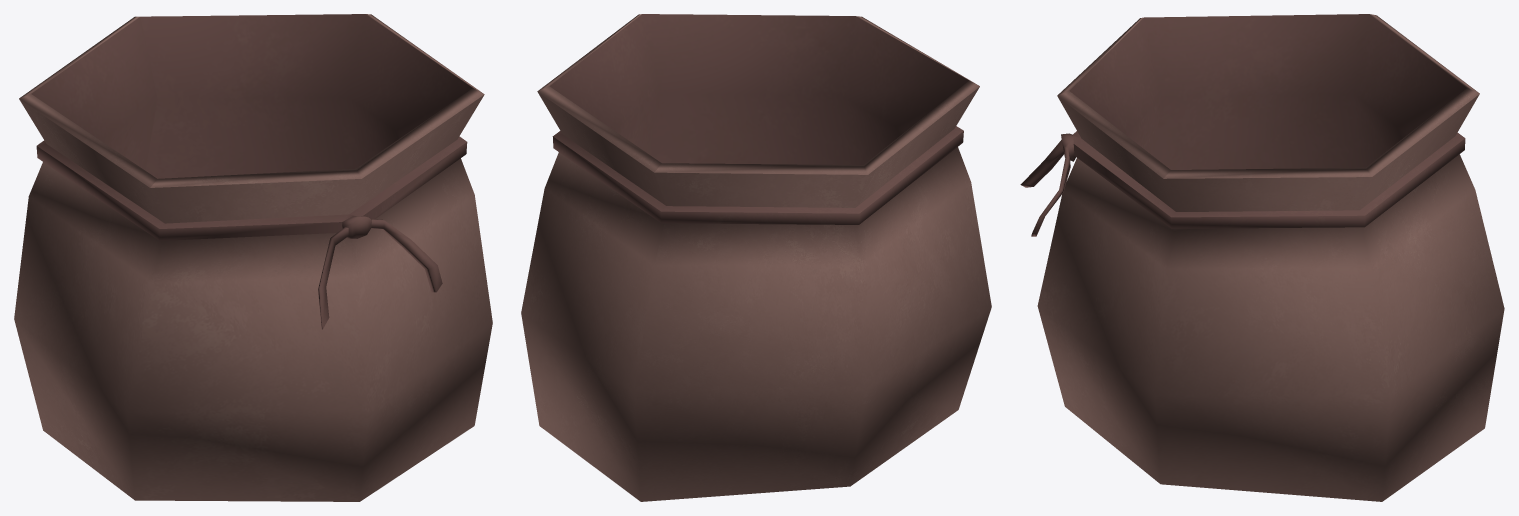
File: CoinDust x20.fbx
3 renders of one model, left to right at view 1: azimuth 30°, elevation 25°; view 2: azimuth 150°, elevation 25°; view 3: azimuth 270°, elevation 25°, orthographic. The views are drawn at different scales.
Visible parts, largest first — view 1: Coin Dust x20; view 2: Coin Dust x20; view 3: Coin Dust x20.
Part boxes in pixels (box(x1,y1,x2,y2)): Coin Dust x20: box(14, 14, 492, 501); Coin Dust x20: box(521, 14, 991, 501); Coin Dust x20: box(1020, 14, 1504, 501).
Size of the model in its own units: 193 by 182 by 231.
